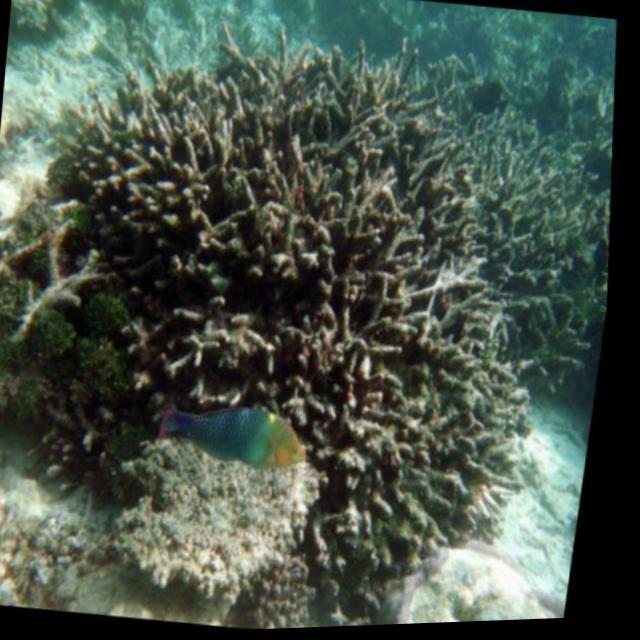Dead Coral: (0, 58, 499, 397), (318, 342, 553, 583)
